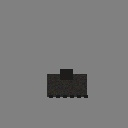personnel: (47, 74, 87, 97)
